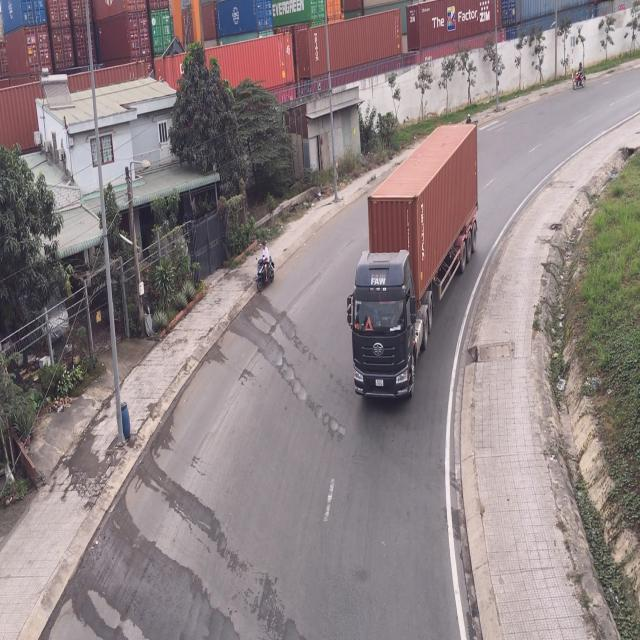motorbike: (257, 244, 277, 295), (573, 59, 586, 92)
truck: (350, 122, 480, 408)
